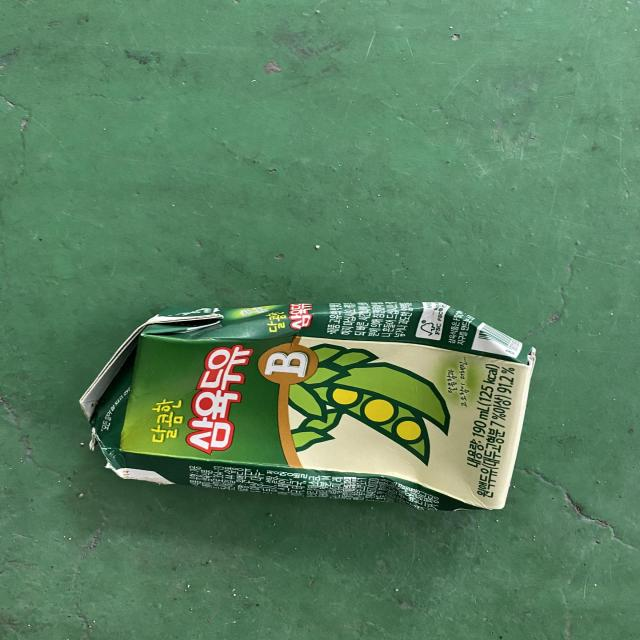paperpack: (79, 302, 536, 511)
